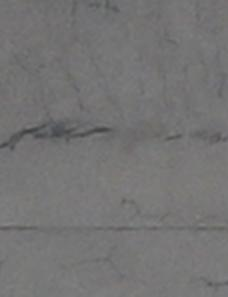termicas: (1, 103, 228, 178)
